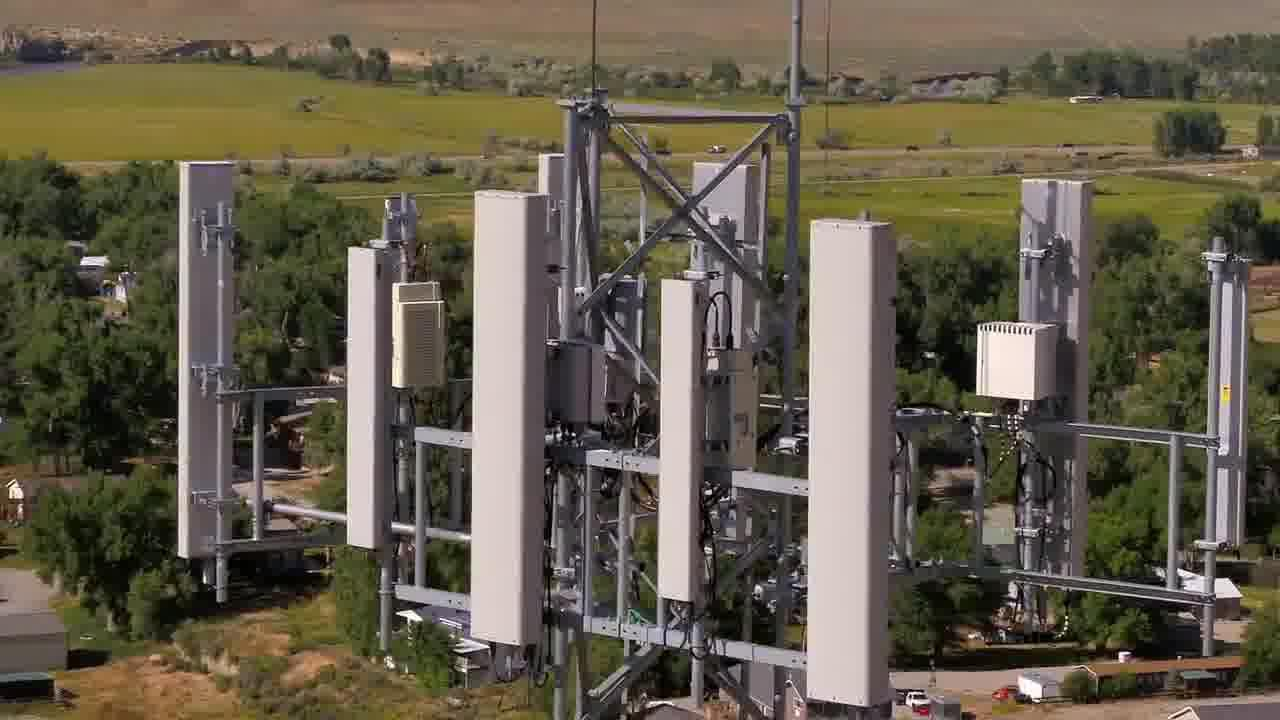antenna: (800, 206, 903, 712), (453, 176, 557, 660), (160, 156, 239, 577), (1015, 171, 1093, 595), (687, 159, 762, 488), (1196, 243, 1258, 553), (335, 234, 392, 552), (651, 265, 695, 607)
